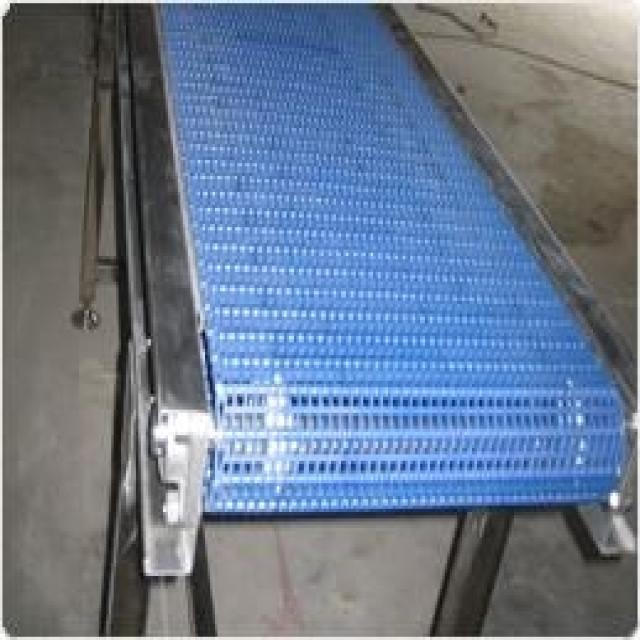conveyor: (105, 0, 631, 546)
